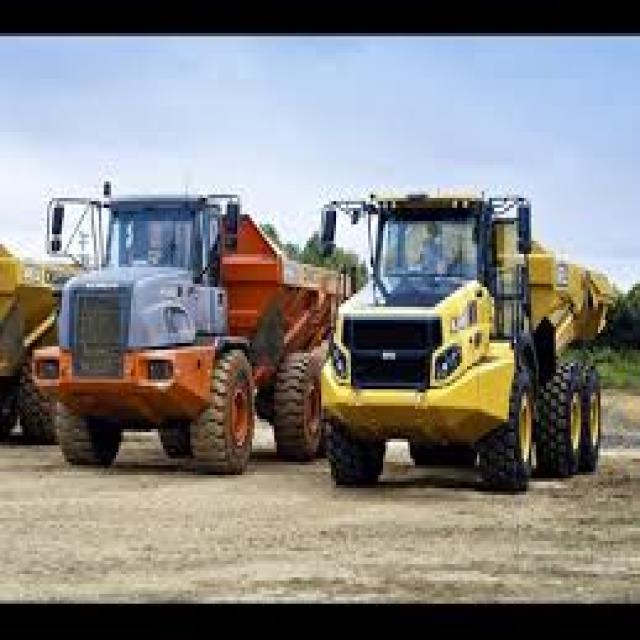dump_truck: (319, 155, 620, 508), (24, 165, 333, 501)
